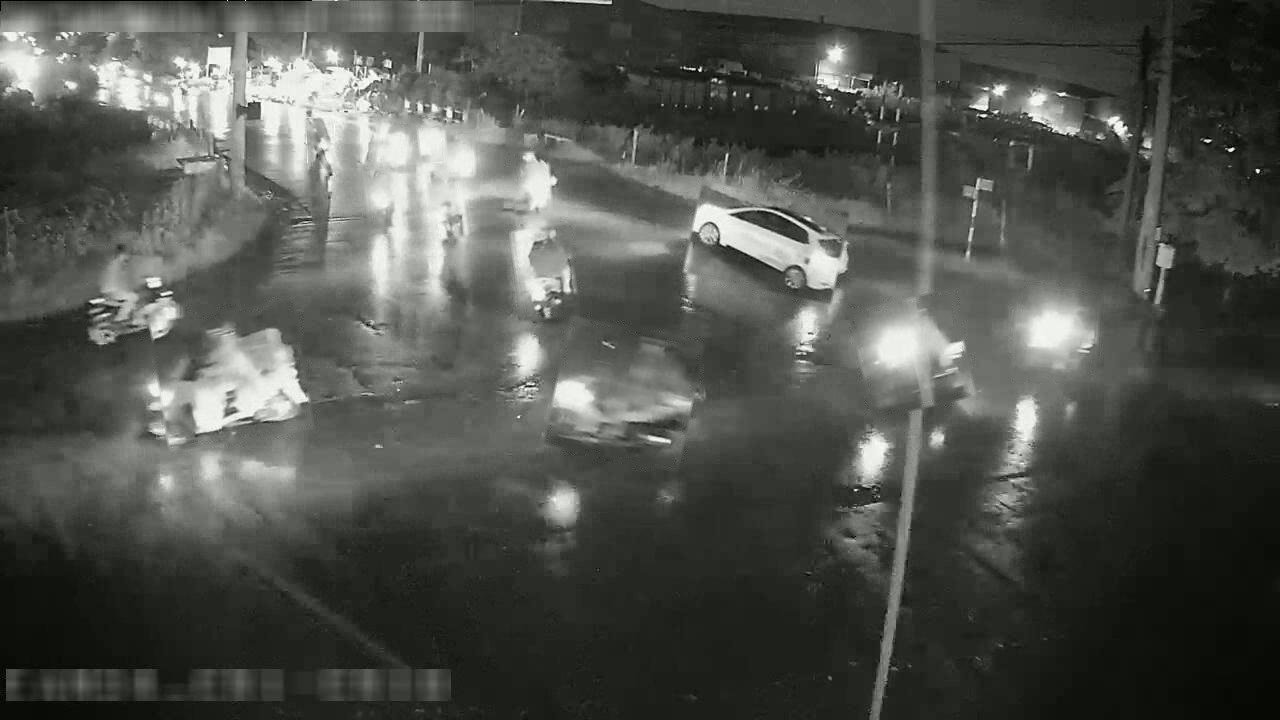Car: (147, 326, 308, 444), (691, 201, 848, 291), (860, 308, 968, 409), (550, 376, 695, 447), (87, 292, 146, 346)
Motorcyclist: (842, 428, 894, 503), (528, 228, 573, 297), (519, 150, 556, 212), (143, 287, 182, 340), (529, 228, 569, 272), (308, 110, 332, 158), (315, 137, 334, 187)
